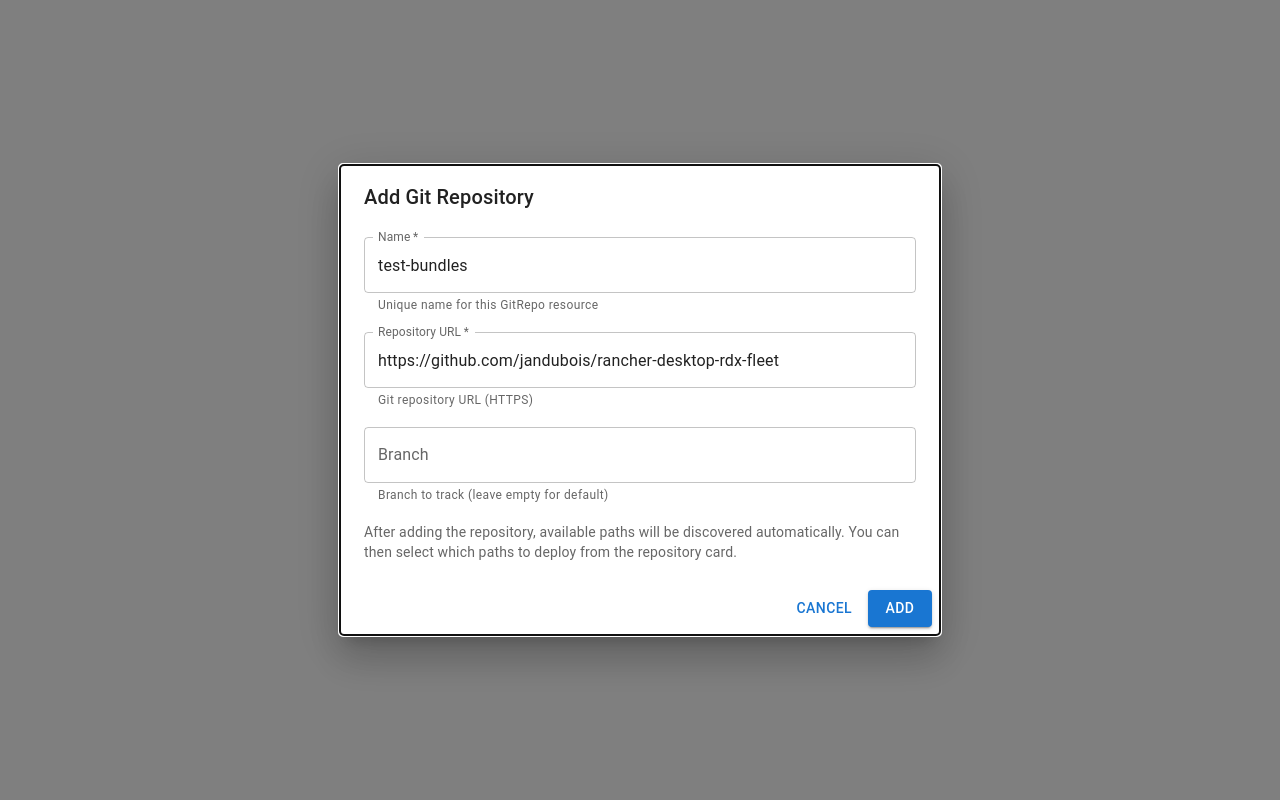
AddRepoDialog › displays error message when add throws
This screenshot has width=1280, height=800.
Click the button "Add" at (900, 608), box [868, 590, 932, 627]
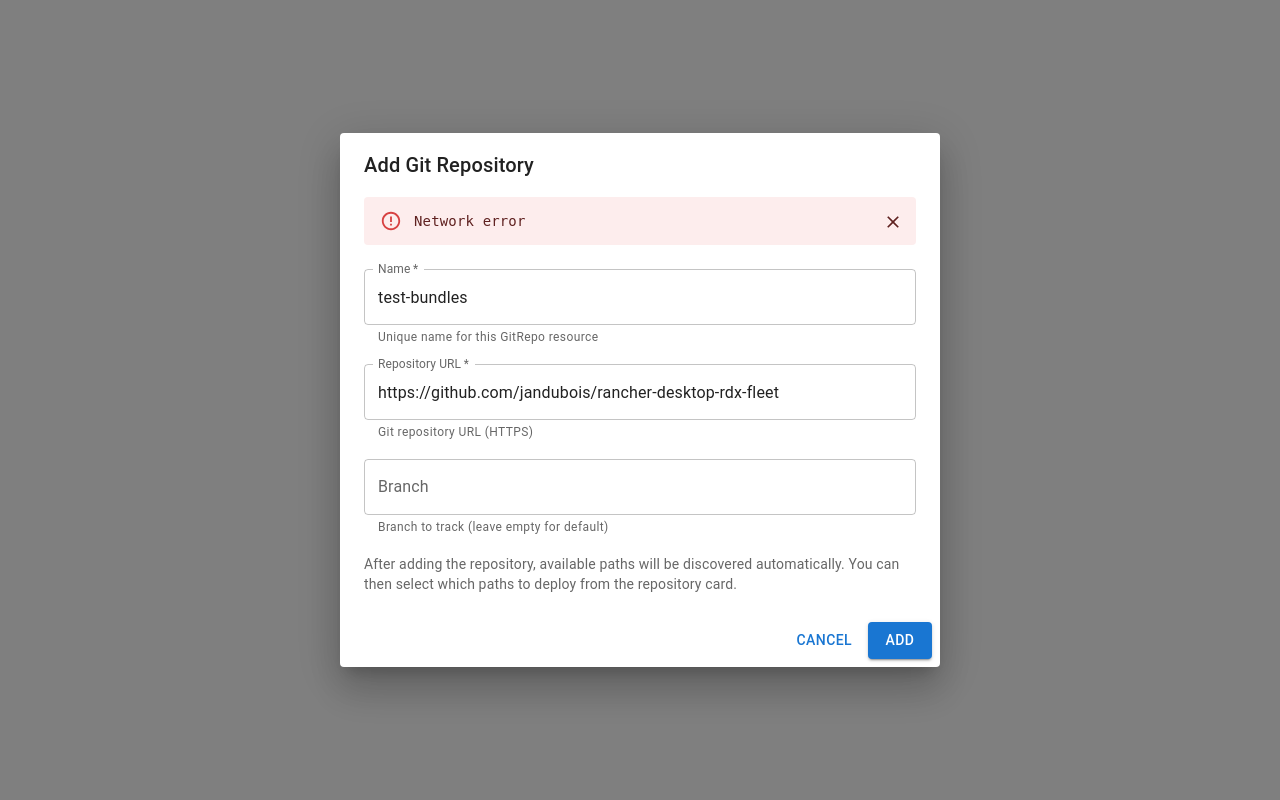
Check: the text "Network error" is shown, box [414, 213, 526, 229]
